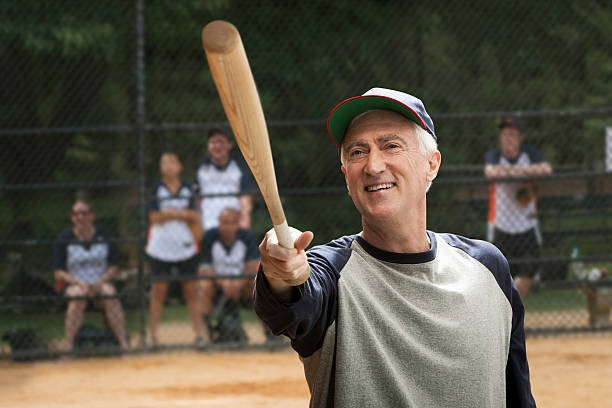bita: (199, 19, 306, 281)
